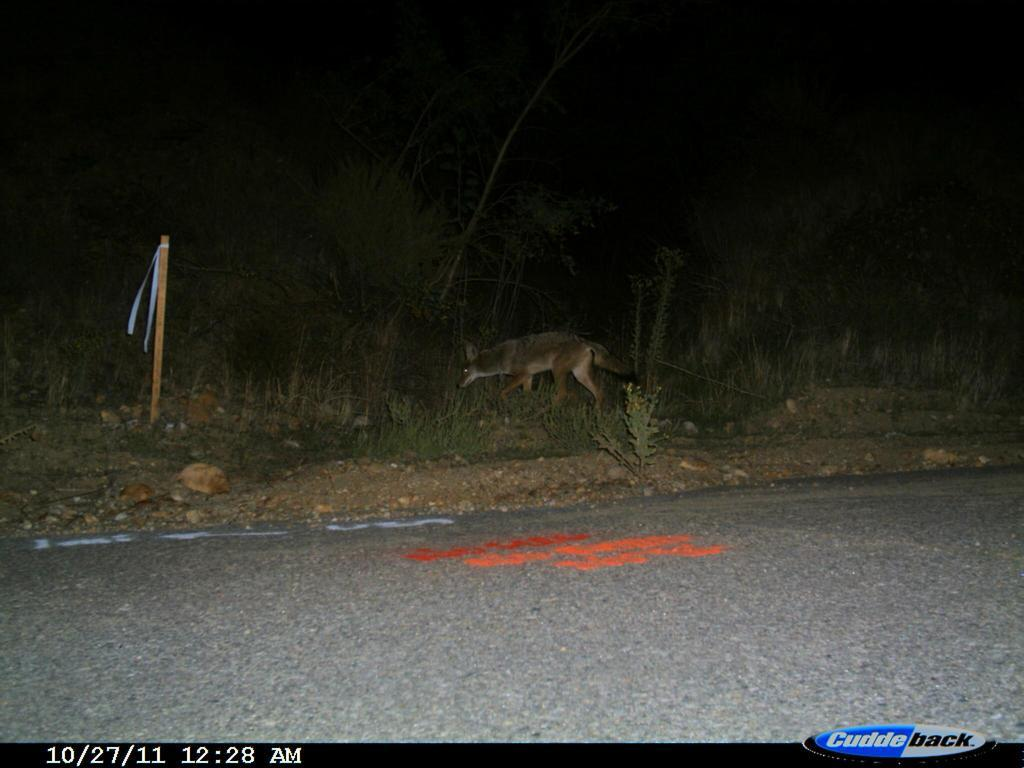coyote: (443, 313, 662, 434)
